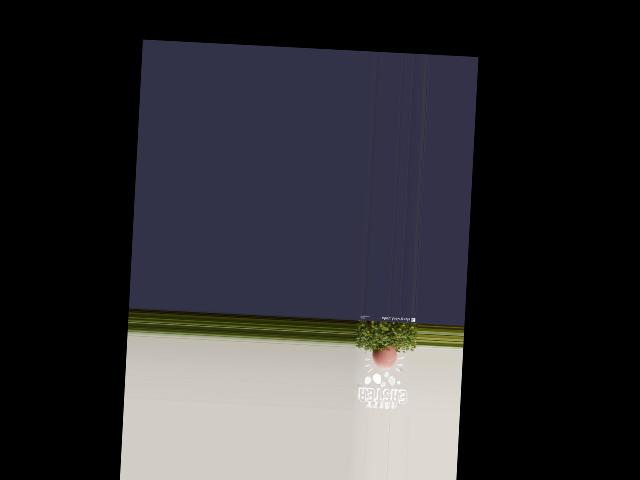egg: (370, 345, 396, 370)
